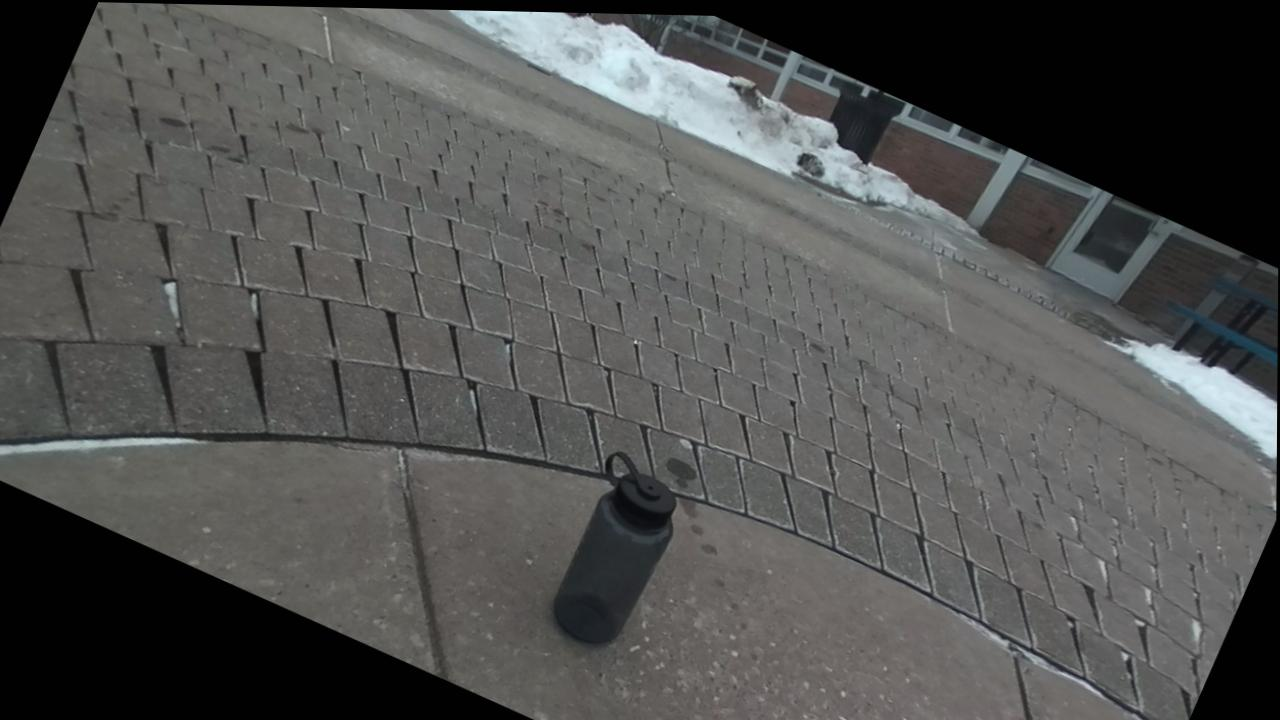bottle: (552, 452, 675, 644)
